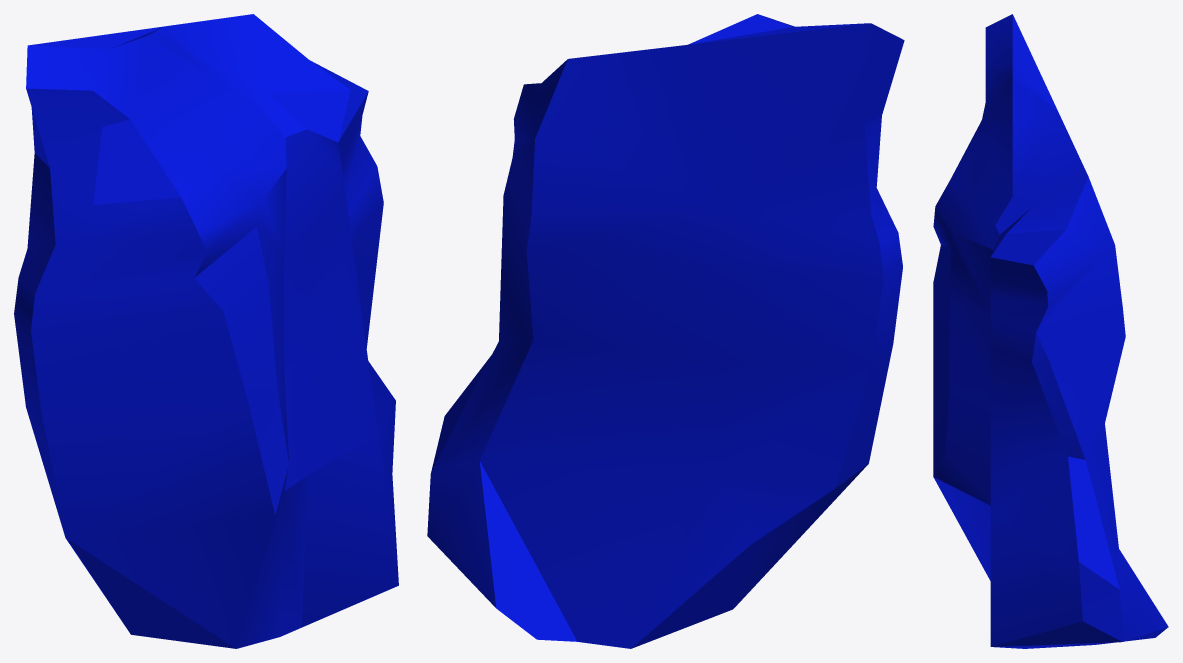
File: skala2.fbx
3 views of the same model, side by side, from view 1: azimuth 30°, elevation 25°; view 2: azimuth 150°, elevation 25°; view 3: azimuth 270°, elevation 25° (orthographic). The views are drawn at different scales.
Visible parts, largest first — view 1: skała2; view 2: skała2; view 3: skała2.
Part boxes in pixels (x1,y1,x2,y2): skała2: [14, 14, 398, 648]; skała2: [427, 14, 904, 648]; skała2: [933, 14, 1168, 648].
Size of the model in its own units: 0.4734 by 0.7023 by 0.282.
